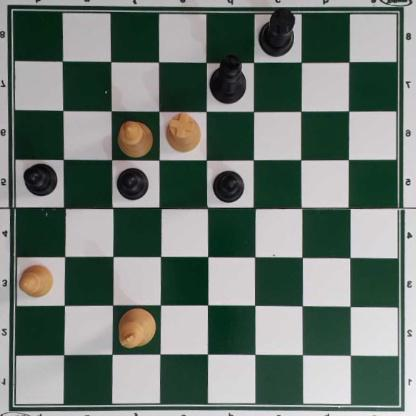black-king: (209, 53, 247, 105)
black-pawn: (24, 160, 59, 196), (212, 168, 247, 203), (117, 165, 149, 201)
black-rook: (256, 8, 298, 56)
white-bishop: (119, 120, 154, 158)
white-king: (118, 306, 158, 349)
white-pawn: (19, 261, 56, 298)
white-rook: (165, 112, 202, 153)
